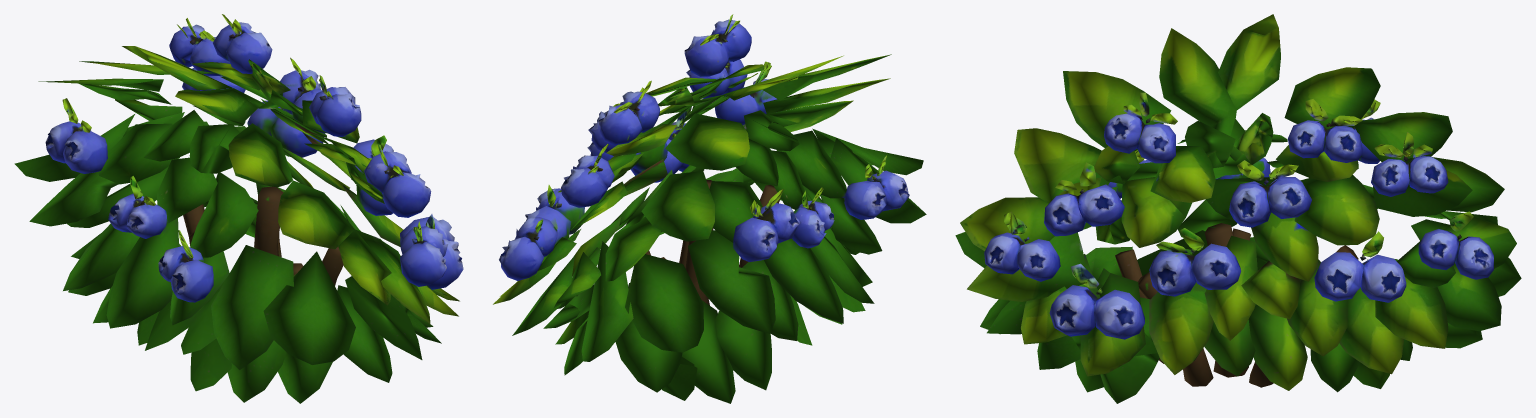
File: blueberry_bush_3d_model.glb
3 renders of one model, left to right at view 1: azimuth 30°, elevation 25°; view 2: azimuth 150°, elevation 25°; view 3: azimuth 270°, elevation 25°, orthographic. The views are drawn at different scales.
Parts seen in each view (by area): view 1: world; view 2: world; view 3: world.
Boxes of the visible parts, box(x1,y1,x2,y2) form: world: box(14, 14, 463, 403); world: box(493, 14, 926, 403); world: box(955, 14, 1521, 403).
Bounding box in the file's own units: 0.6387 × 0.584 × 0.998.
1 material, 1 textured.
